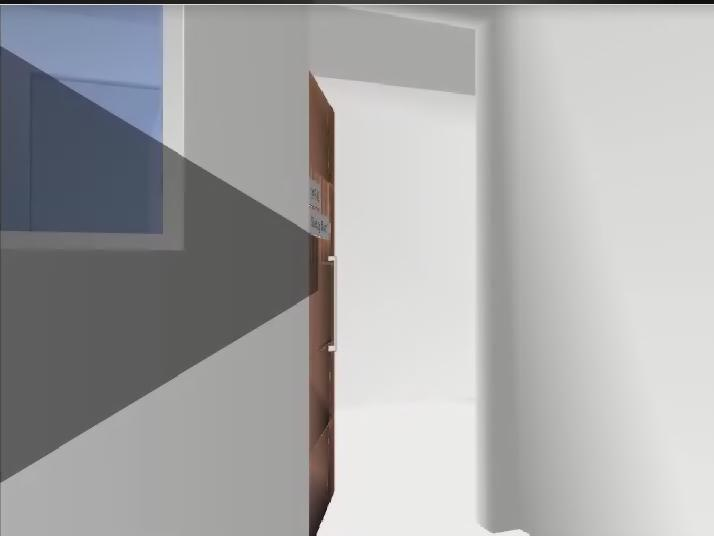door: (309, 68, 338, 536)
